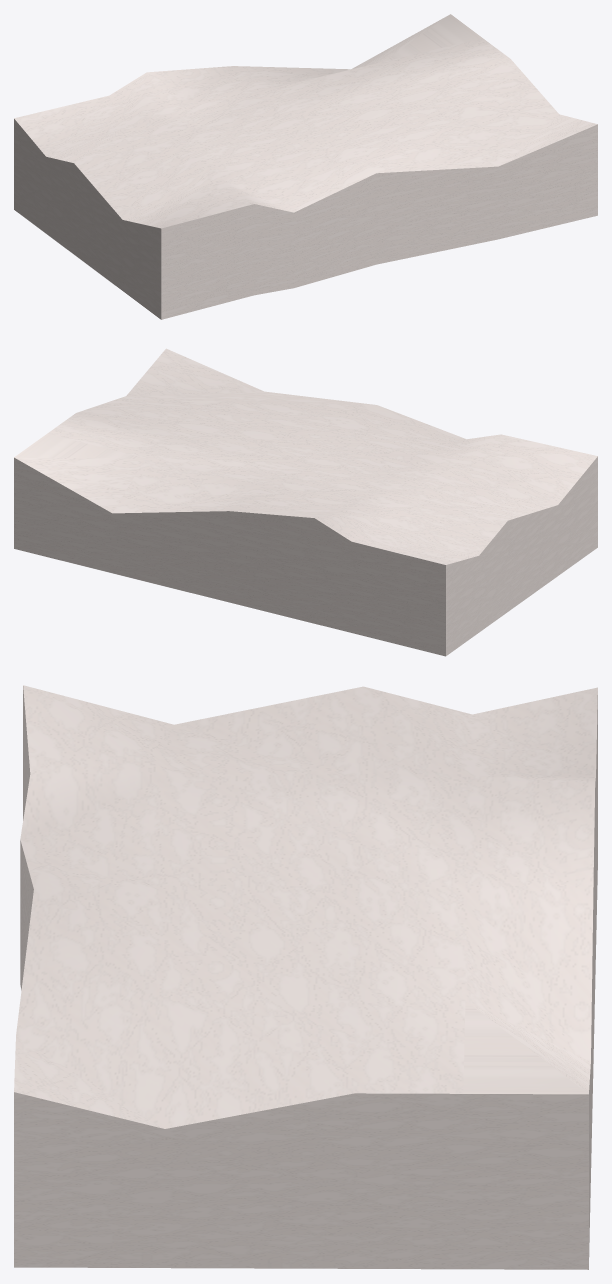
File: pillow_old.fbx
3 views of the same model, one above another, from view 1: azimuth 30°, elevation 25°; view 2: azimuth 150°, elevation 25°; view 3: azimuth 270°, elevation 25° (orthographic). The views are drawn at different scales.
Visible parts, largest first — view 1: pCube4; view 2: pCube4; view 3: pCube4.
Part boxes in pixels (x1=…): pCube4: x1=14, y1=14, x2=597, y2=319; pCube4: x1=14, y1=348, x2=597, y2=656; pCube4: x1=14, y1=685, x2=597, y2=1269.
Size of the model in its own units: 0.7196 by 0.1663 by 0.434.
1 material, 1 textured.
